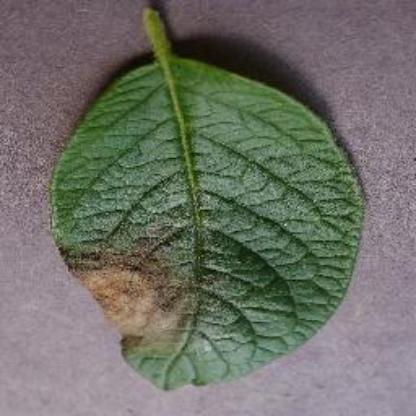Late-Blight: (34, 7, 372, 399)
